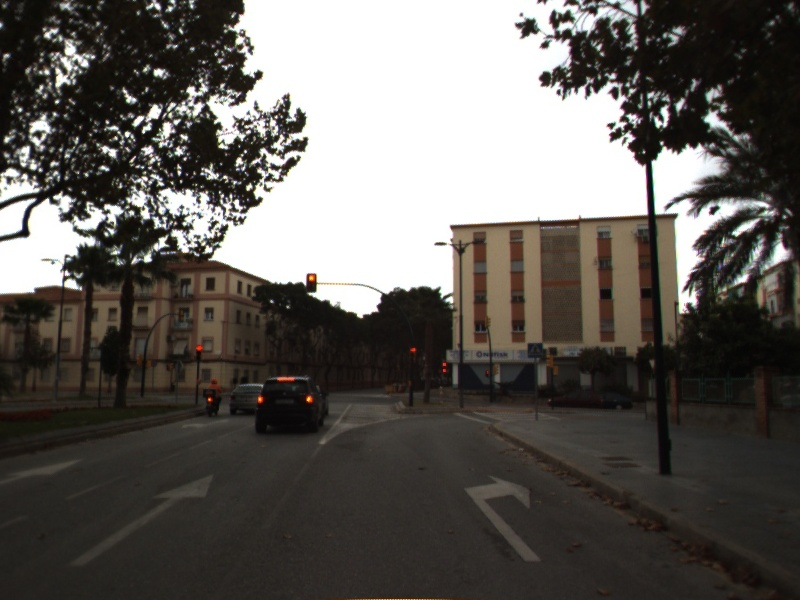RIGHT: (459, 471, 546, 564)
STRAIGHT: (64, 469, 218, 571), (1, 454, 87, 489)
